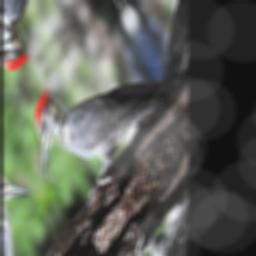Woodpecker: (17, 0, 174, 233)
